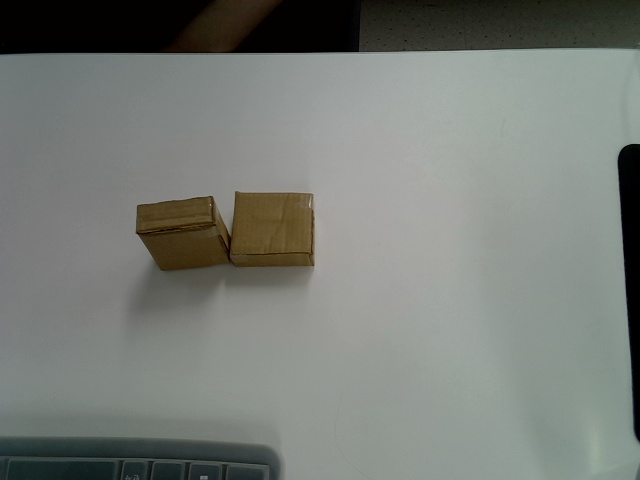normal: (133, 195, 229, 270), (230, 192, 315, 270)
